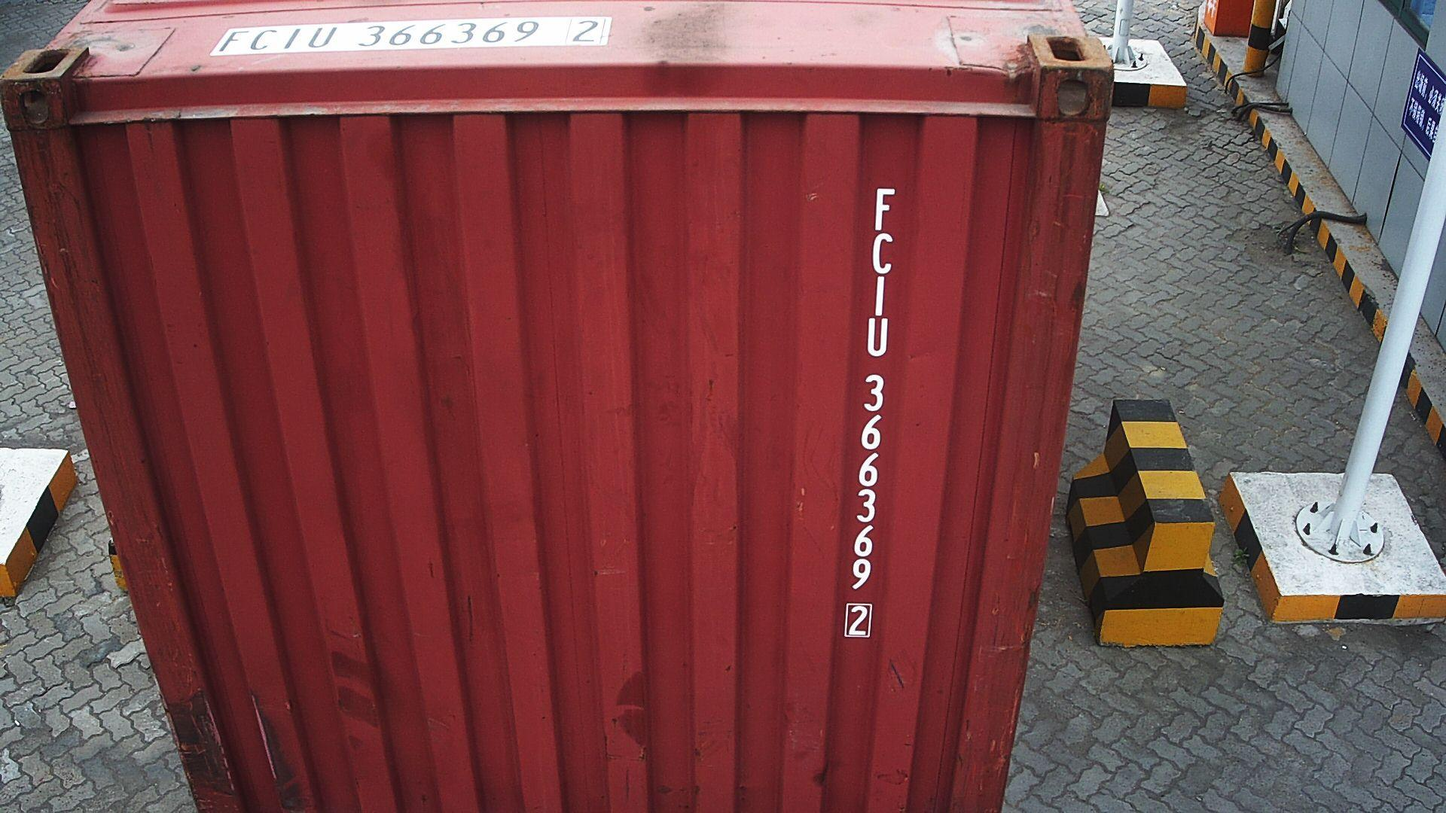container-numbers: (836, 185, 902, 643), (206, 16, 614, 58)
